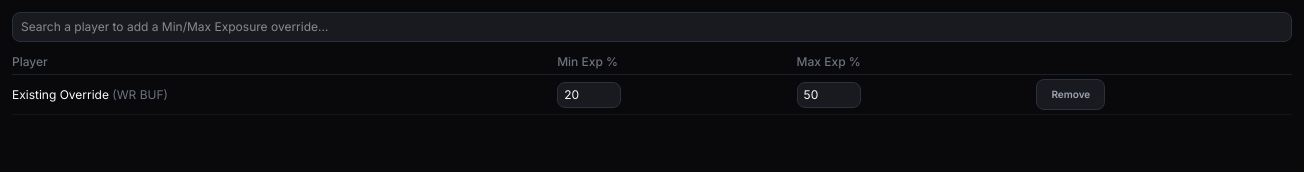
Scenario: NflExposureEditor (NFL M13) › Remove clears both min and max exposure for that player
Click the button "Remove" at (1071, 95), box x1=1036 y1=79 x2=1105 y2=110
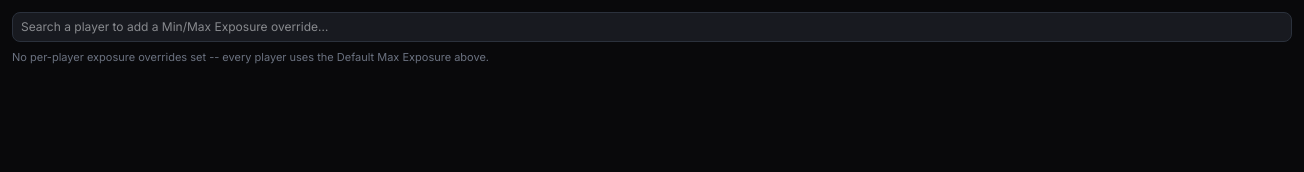
Now the text "No per-player exposure overrides set" is shown, box x1=12 y1=50 x2=489 y2=64
